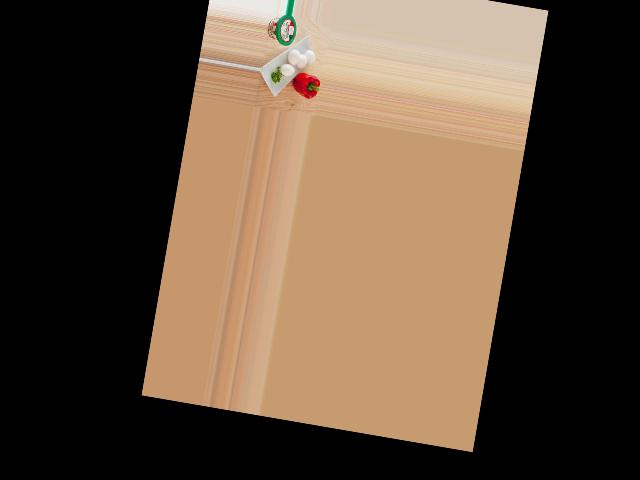bell_pepper: (291, 67, 321, 101)
